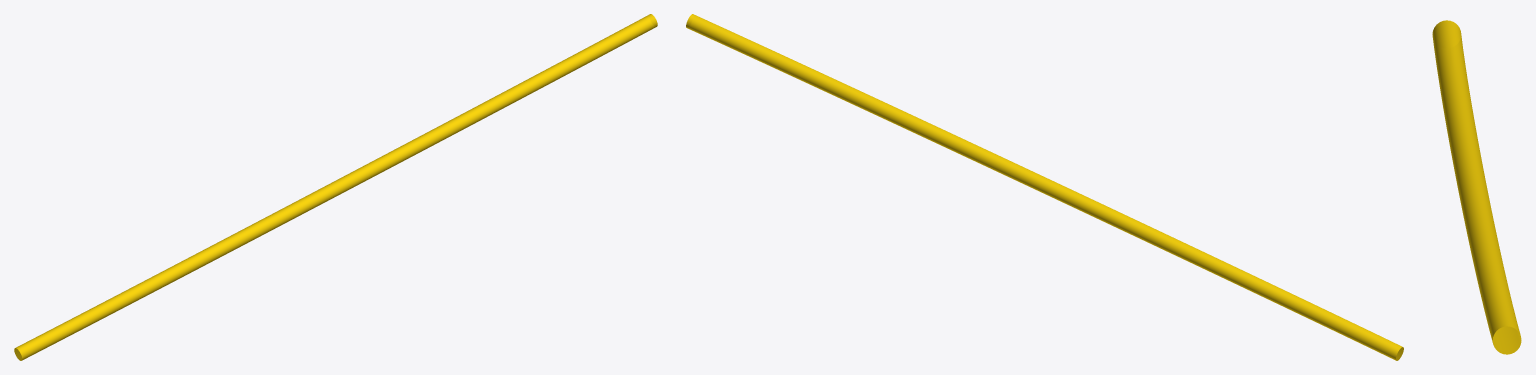
Rendered from Event_420107950_track_18.fbx.
3 views of the same model, side by side, from view 1: azimuth 30°, elevation 25°; view 2: azimuth 150°, elevation 25°; view 3: azimuth 270°, elevation 25° (orthographic). The views are drawn at different scales.
Parts seen in each view (by area): view 1: Model; view 2: Model; view 3: Model.
Part boxes in pixels (left/top/right/bottom): Model: left=14, top=14, right=657, bottom=360; Model: left=686, top=14, right=1403, bottom=360; Model: left=1432, top=20, right=1521, bottom=354.
Size of the model in its own units: 2.09 by 0.5416 by 0.1234.
